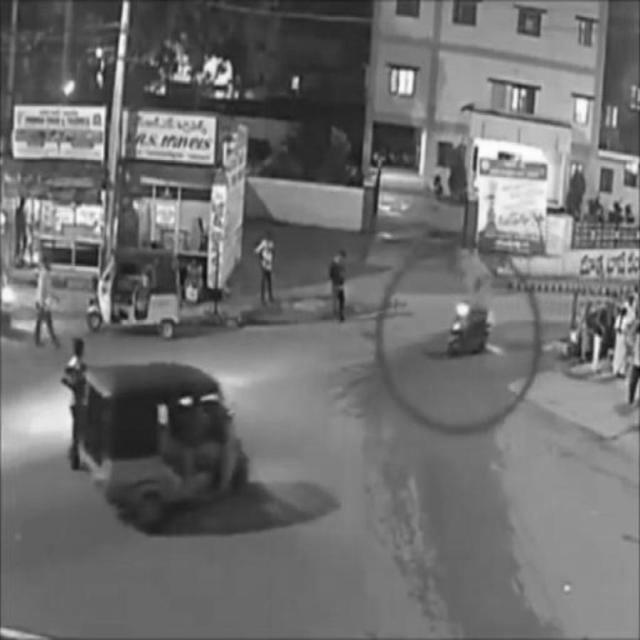person: (31, 260, 61, 352), (327, 251, 351, 319), (257, 231, 277, 302)
vehicle: (79, 363, 241, 517), (88, 250, 186, 341), (444, 276, 500, 358)
